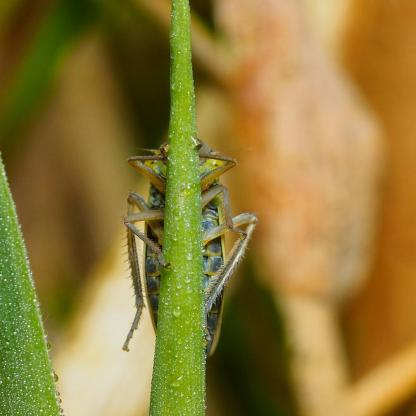Green-Leafhopper: (119, 126, 258, 364)
